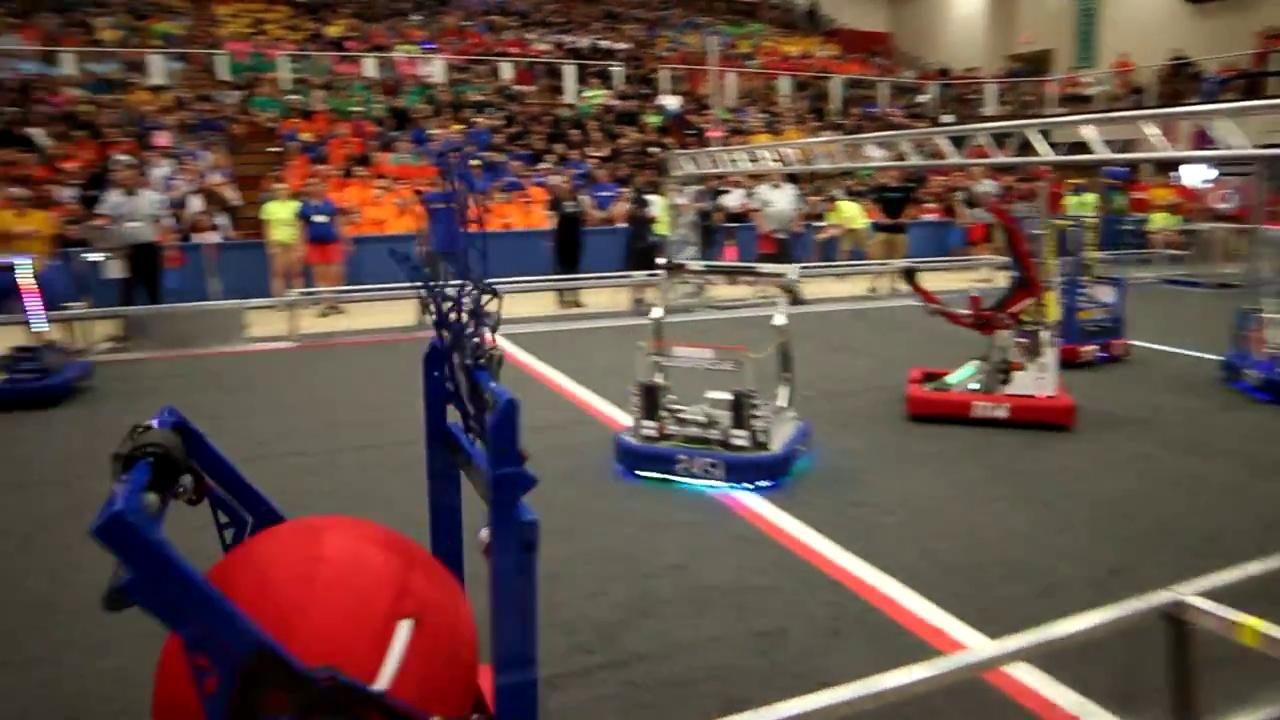robot: (71, 127, 554, 720), (611, 253, 813, 494), (894, 184, 1084, 435), (1011, 220, 1133, 371), (0, 249, 94, 411), (1215, 223, 1280, 408)
